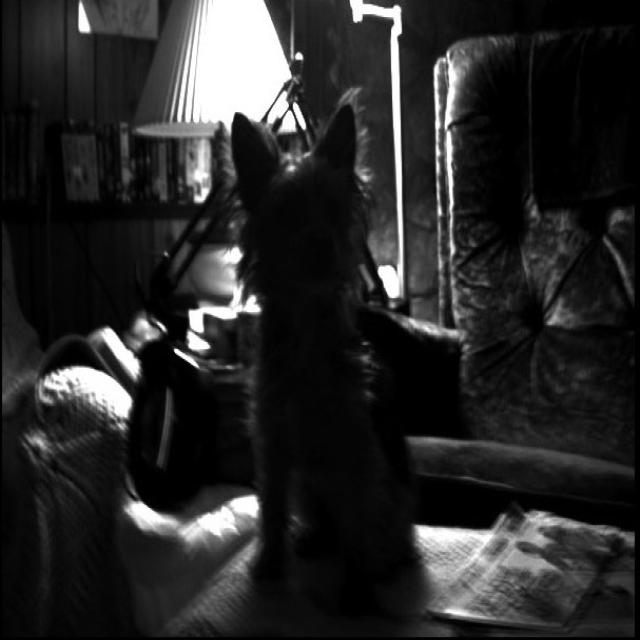Dog: (201, 106, 410, 606)
